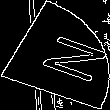N_NW: (13, 26, 97, 84)
